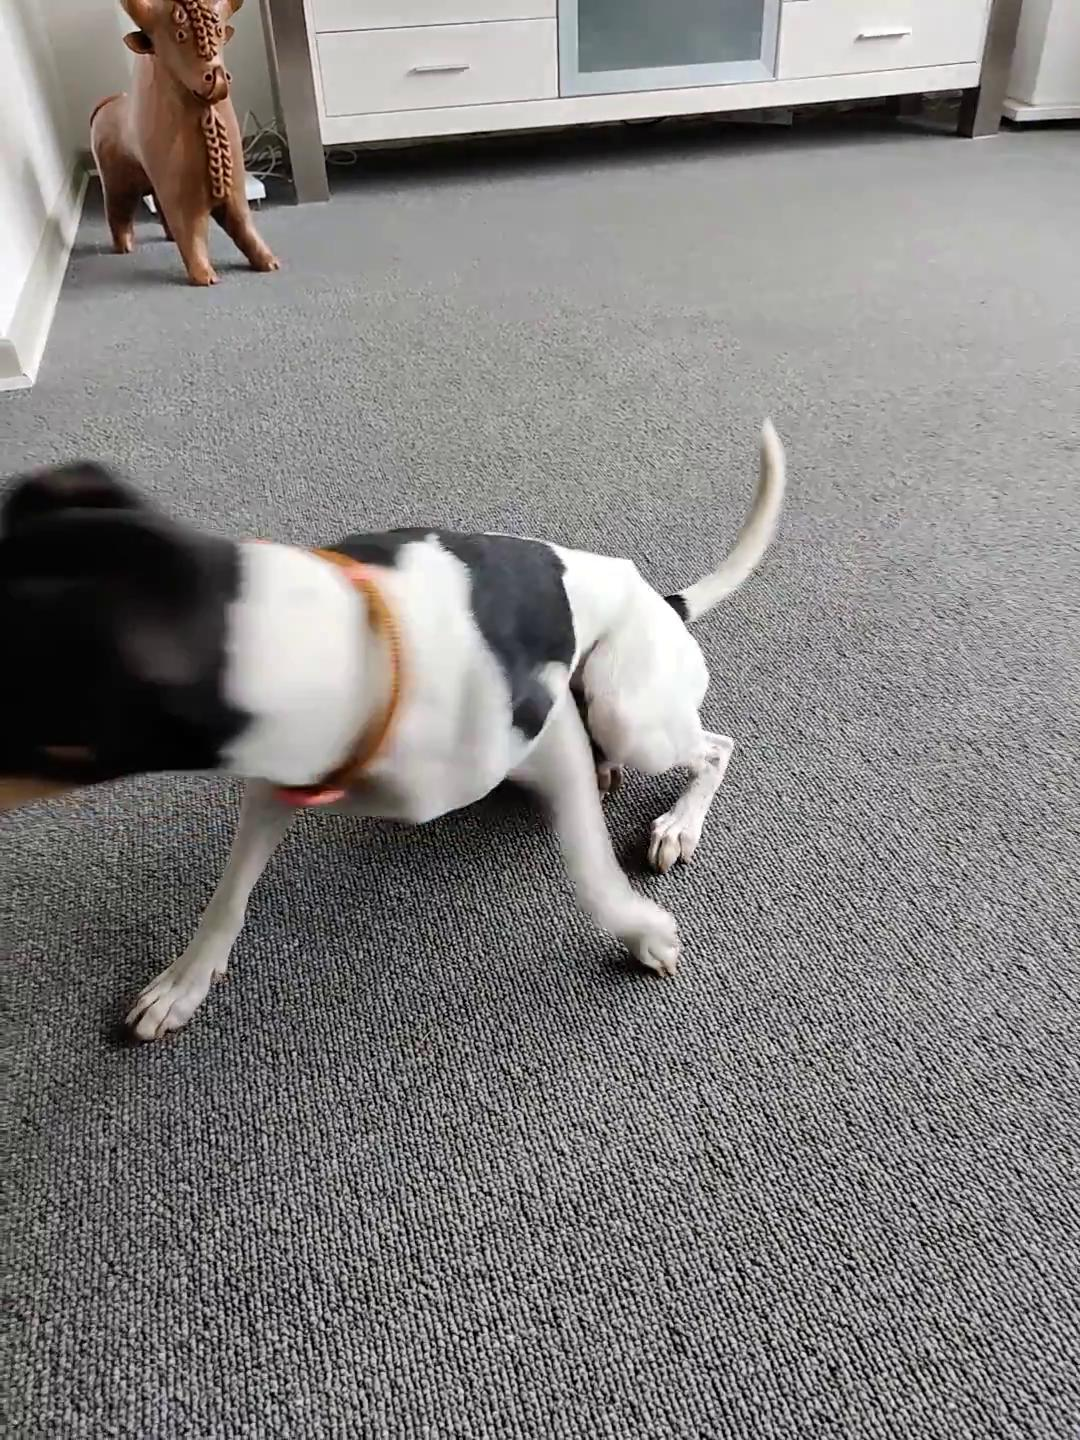Dog: (0, 413, 795, 1048)
